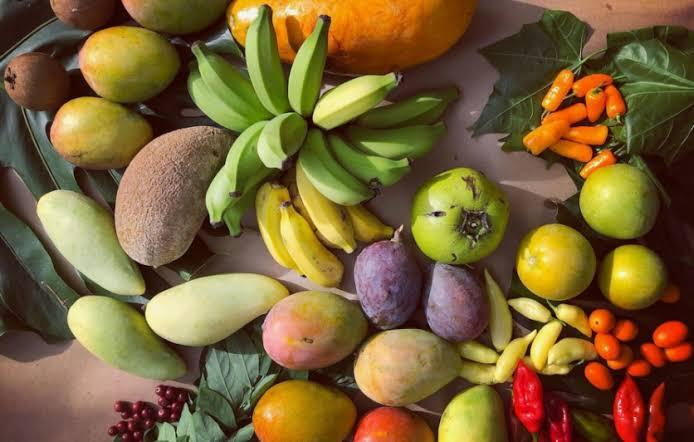xoai: (143, 269, 286, 350), (354, 329, 464, 408), (78, 22, 183, 102), (260, 292, 368, 369)
